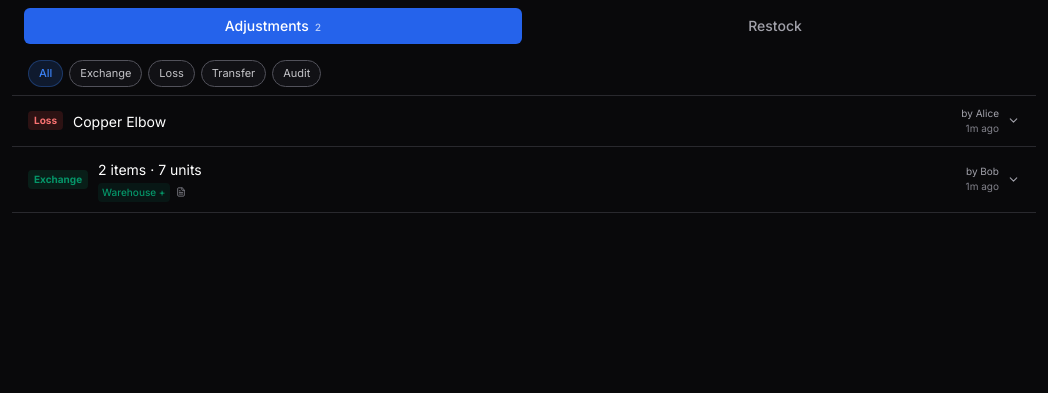
StockHistorySection › shows note in expanded row
The image size is (1048, 393).
Click the text "2 items · 7 units": [150, 169] box 98,160 -> 202,178
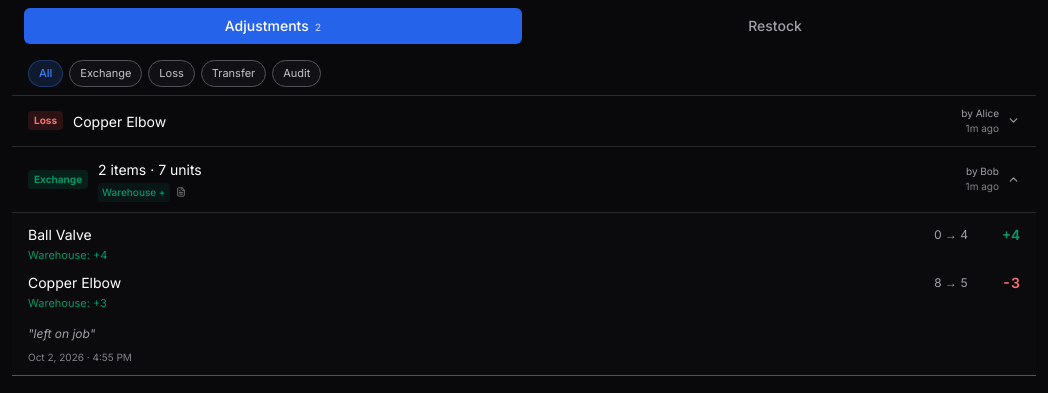
Expected: the text "\"left on job\"" is shown, 28,326 -> 95,340
